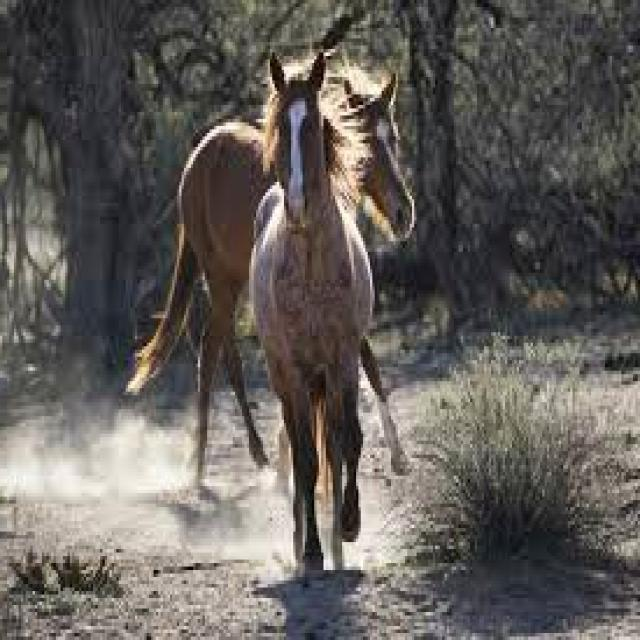horse: (251, 52, 372, 570)
